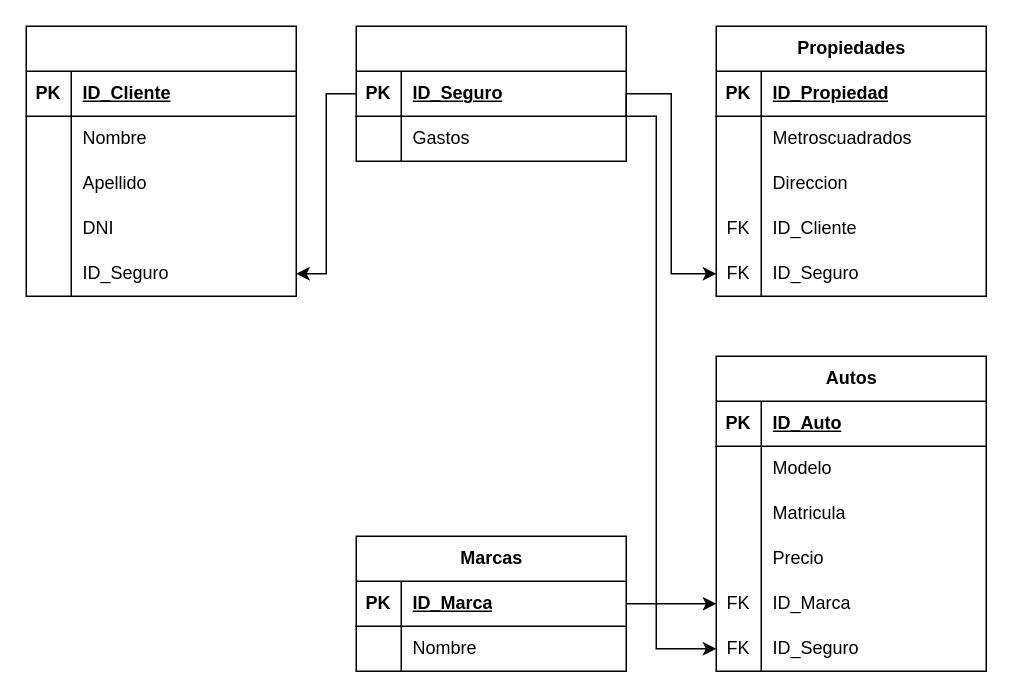
The diagram is 1013 pixels wide and 698 high, and some of its shapes have lost their labels. The shapes that lost their labels are listed below. From the top down, each one's box as (x1, y1, x2, y2) in pixels, then its label:
(355, 25, 626, 161): Seguros
(25, 25, 296, 296): Clientes
